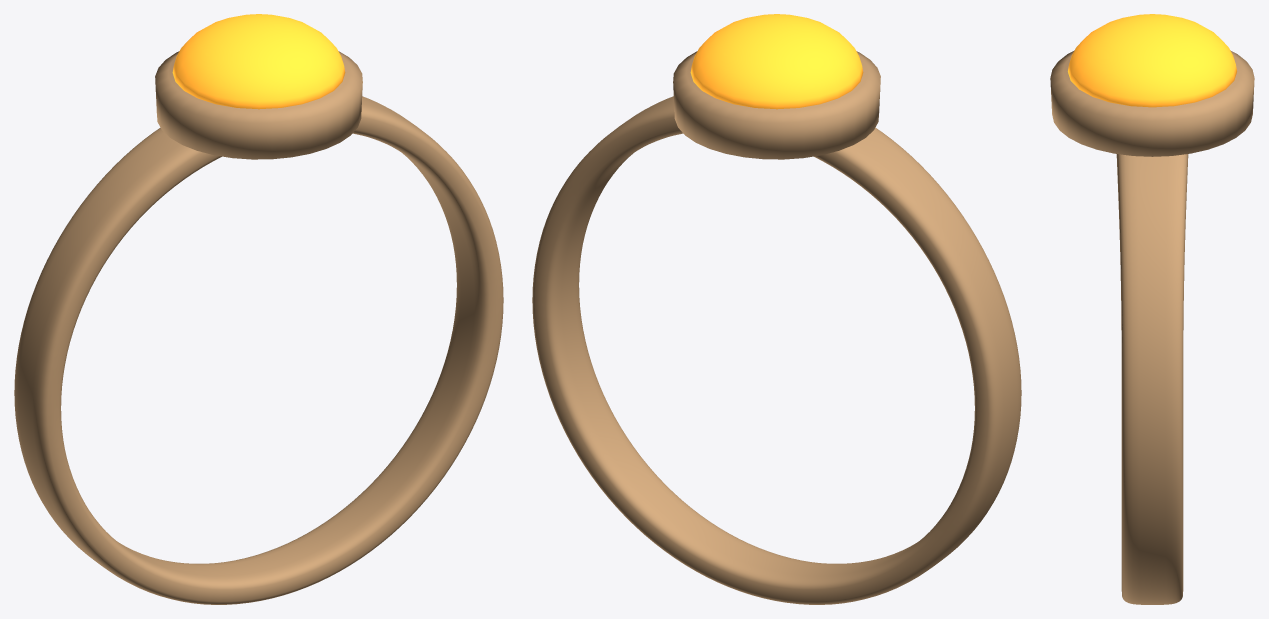
File: jewel_ring_common.glb
3 views of the same model, side by side, from view 1: azimuth 30°, elevation 25°; view 2: azimuth 150°, elevation 25°; view 3: azimuth 270°, elevation 25° (orthographic).
Visible parts, largest first — view 1: jewel_ring_common; view 2: jewel_ring_common; view 3: jewel_ring_common.
Part boxes in pixels (left/top/right/bottom): jewel_ring_common: left=14, top=14, right=503, bottom=604; jewel_ring_common: left=532, top=14, right=1021, bottom=604; jewel_ring_common: left=1050, top=14, right=1254, bottom=604.
Bounding box in the file's own units: 2.24 × 2.59 × 0.864.
